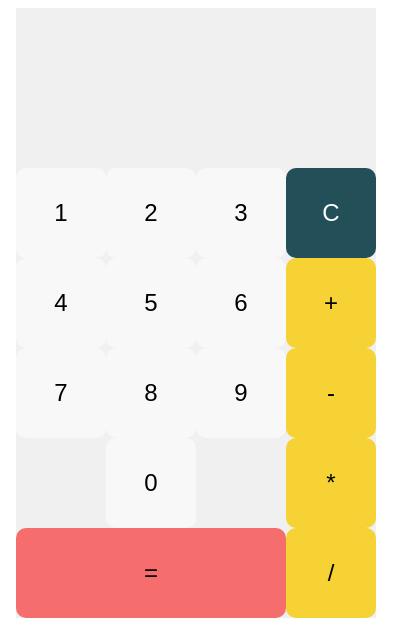
Scenario: Navigation component testing › Number Buttons › when clicked value is added to calculations
What coordinates should you click on to do the following:
click the button with class "number-button" showing "1"
I would click on:
 (61, 213)
Its box is left=16, top=168, right=106, bottom=258.
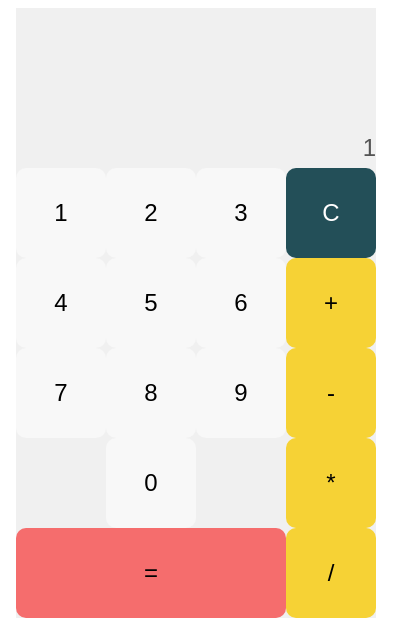
What coordinates should you click on to do the following:
click the button with class "number-button" showing "1"
I would click on:
 (61, 213)
Its box is left=16, top=168, right=106, bottom=258.
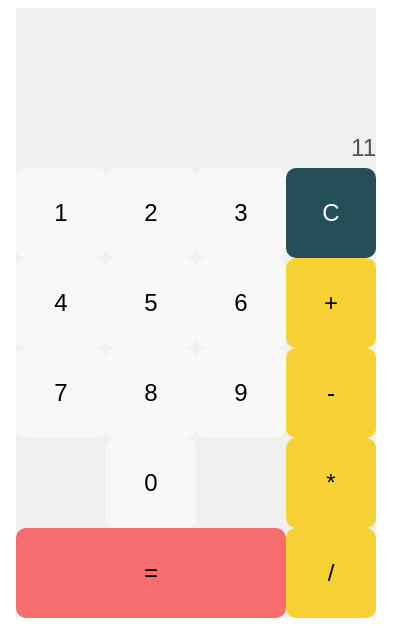
Check: the text with class "calculation" reads "11", box left=351, top=134, right=376, bottom=161
